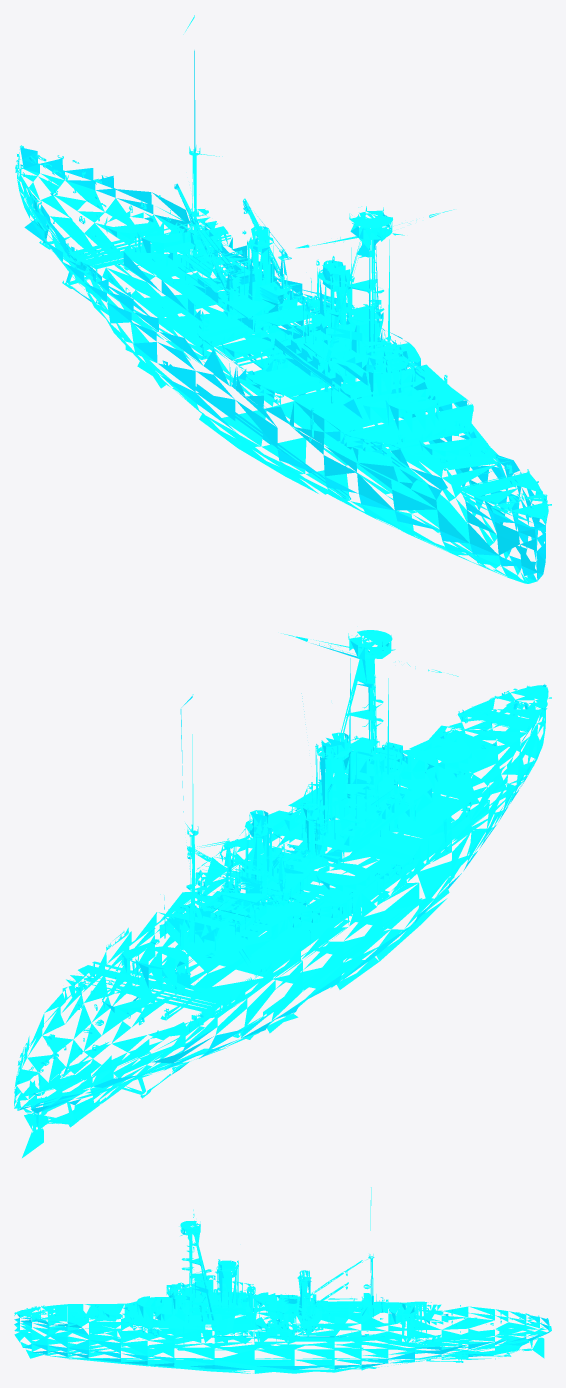
The model's file is Courbet.glb.
3 renders of one model, top to bottom at view 1: azimuth 30°, elevation 25°; view 2: azimuth 150°, elevation 25°; view 3: azimuth 270°, elevation 25°, orthographic. The views are drawn at different scales.
Bounding box in the file's own units: 2.18 × 3.91 × 11.06.
